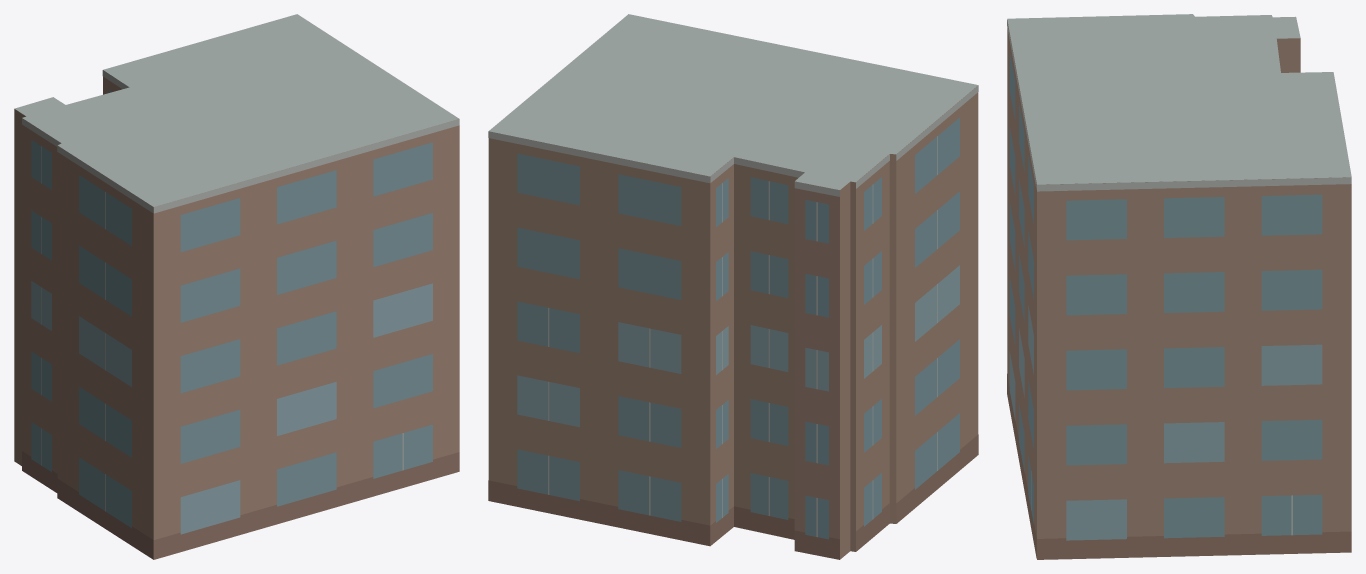
Rendered from survey-upis-32950976.glb.
3 renders of one model, left to right at view 1: azimuth 30°, elevation 25°; view 2: azimuth 150°, elevation 25°; view 3: azimuth 270°, elevation 25°, orthographic. The views are drawn at different scales.
Parts seen in each view (by area): view 1: survey-upis-32950976.tmp; view 2: survey-upis-32950976.tmp; view 3: survey-upis-32950976.tmp.
Part boxes in pixels (<box>): survey-upis-32950976.tmp: <box>14,14,459,559</box>; survey-upis-32950976.tmp: <box>488,14,978,559</box>; survey-upis-32950976.tmp: <box>1007,14,1351,559</box>.
Size of the model in its own units: 13 by 13.32 by 11.1.
